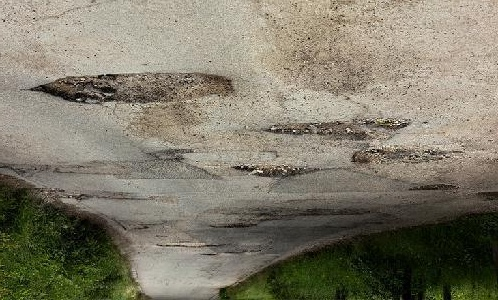pothole: (28, 69, 237, 106), (260, 115, 411, 143), (351, 144, 449, 165), (231, 163, 320, 178), (146, 145, 195, 163), (409, 182, 460, 193), (154, 241, 223, 248), (207, 220, 258, 229), (474, 192, 497, 202)
